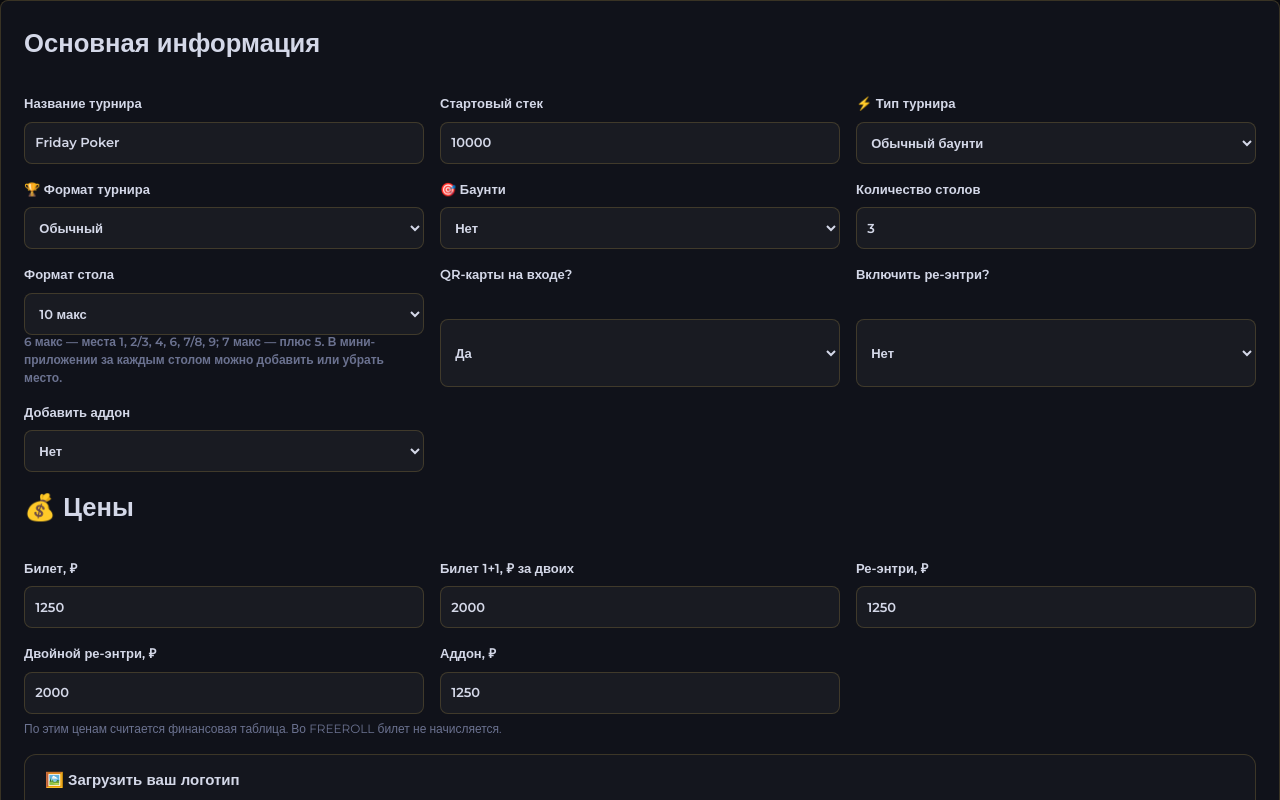
PTS of the picked tournament type › says the rating stays as it is for a type bound to no template
Select "Феникс" in the dropdown labelled "⚡ Тип турнира". click: (1056, 143)
box: [856,122,1256,164]
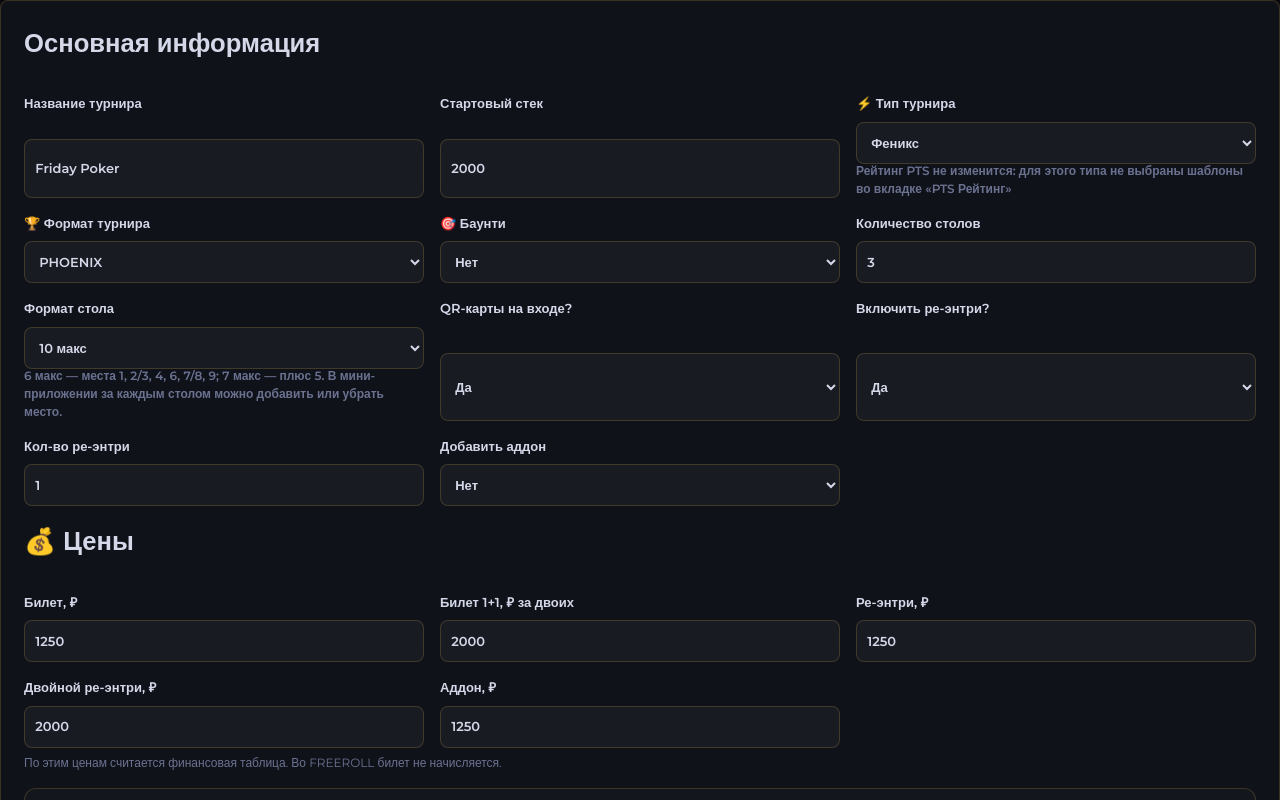
Result: the text "Рейтинг PTS не изменится" is shown at [856,163,1243,196]
